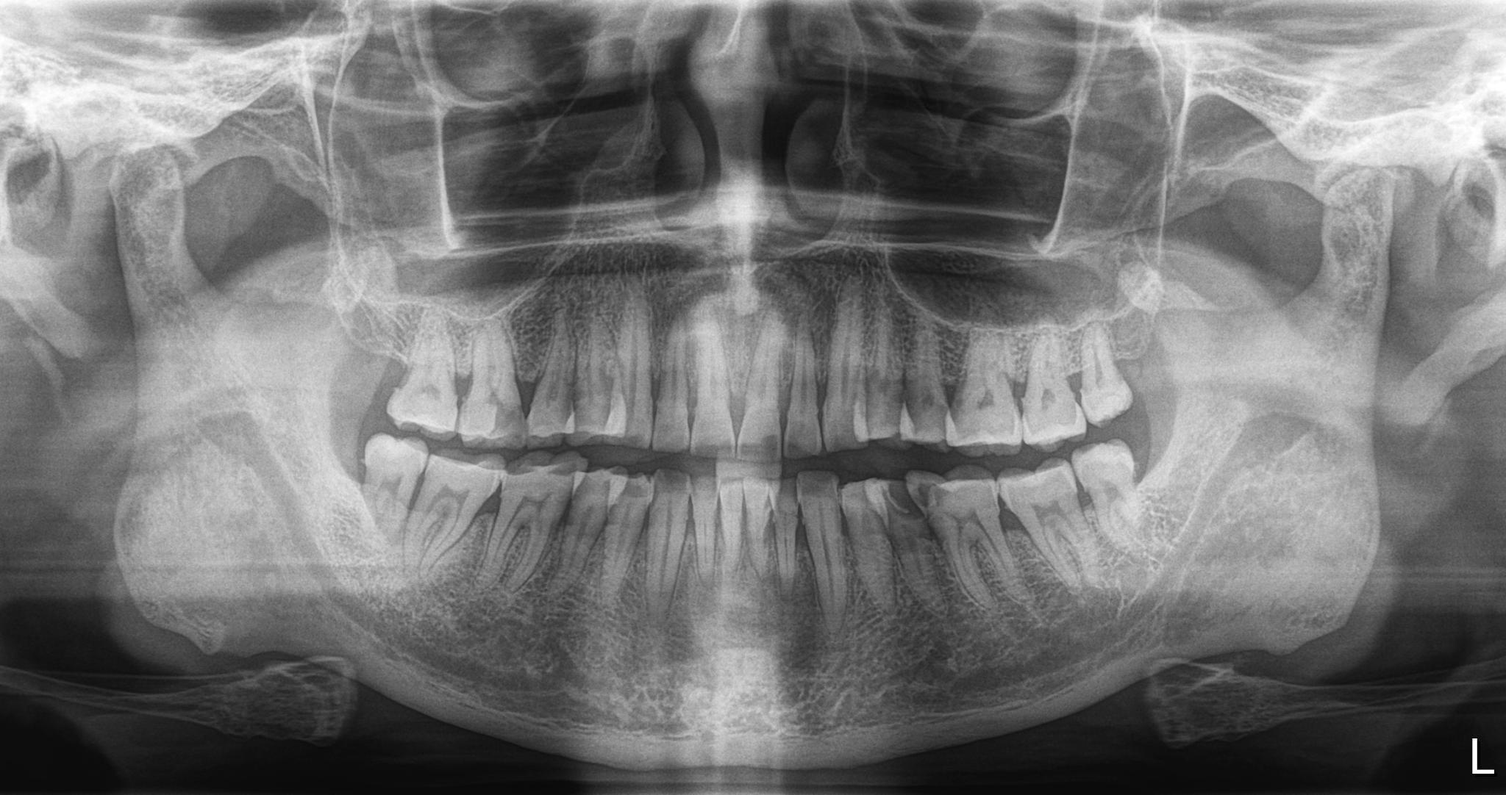Attrition: (518, 459, 626, 494)
Dental Caries: (882, 478, 946, 533), (495, 400, 530, 454)
Missing Tooth: (338, 309, 377, 457)
Periodontal Pocket: (395, 331, 469, 429), (989, 494, 1048, 568)
